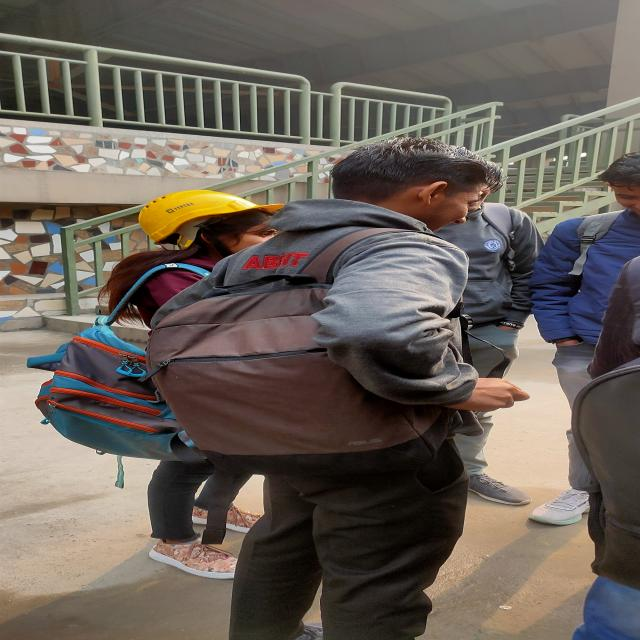unsafe: (168, 146, 516, 632)
